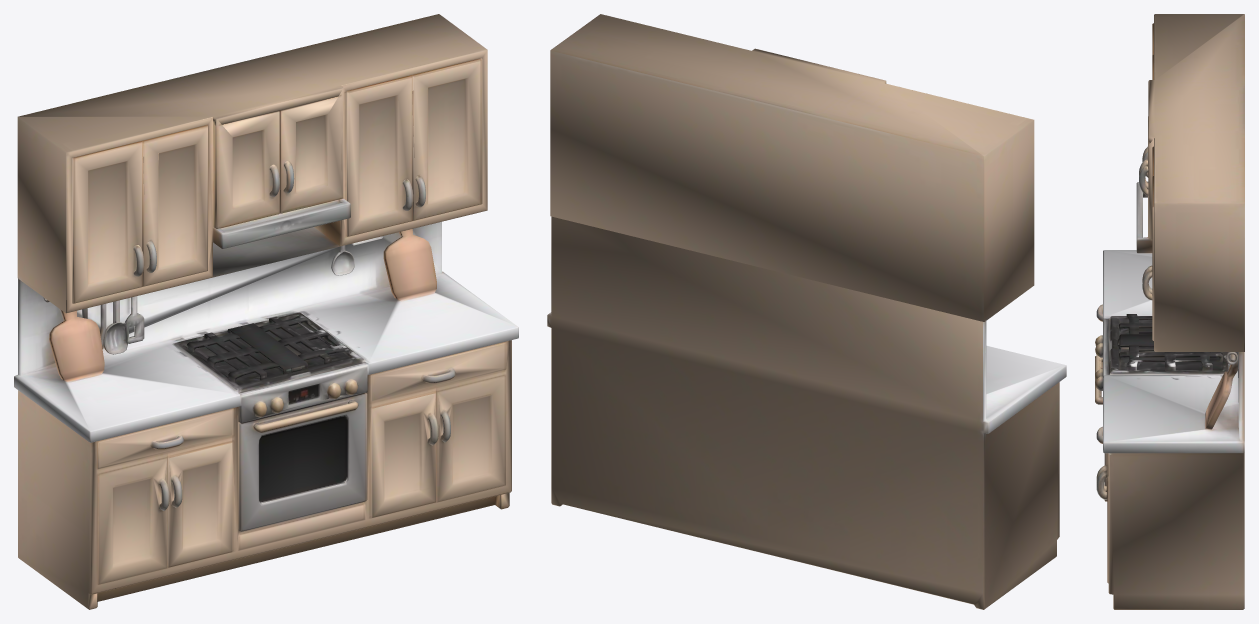
Rendered from Furniture__kitchen_cabinet_everyday_realistic_style_8368dfee_v1.cluster.glb.
3 views of the same model, side by side, from view 1: azimuth 30°, elevation 25°; view 2: azimuth 150°, elevation 25°; view 3: azimuth 270°, elevation 25° (orthographic). The views are drawn at different scales.
Visible parts, largest first — view 1: mesh_input; view 2: mesh_input; view 3: mesh_input.
Boxes of the visible parts, box(x1,y1,x2,y2) form: mesh_input: box(14, 14, 518, 609); mesh_input: box(547, 14, 1066, 609); mesh_input: box(1095, 14, 1244, 609).
Size of the model in its own units: 1.9 by 1.87 by 0.6222.
1 material, 1 textured.
